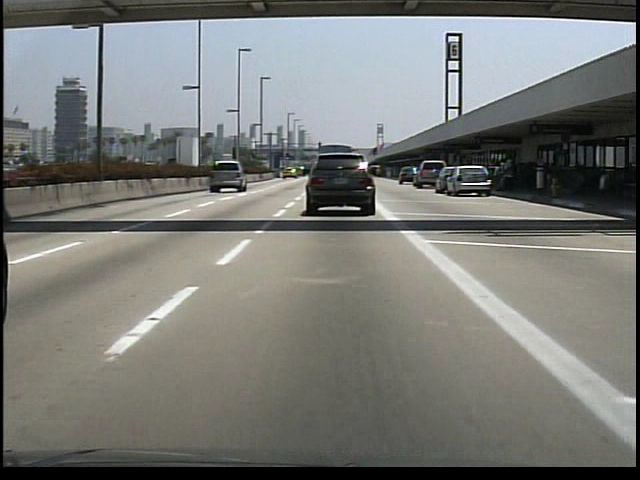person: (500, 152, 523, 193), (491, 158, 505, 192)
